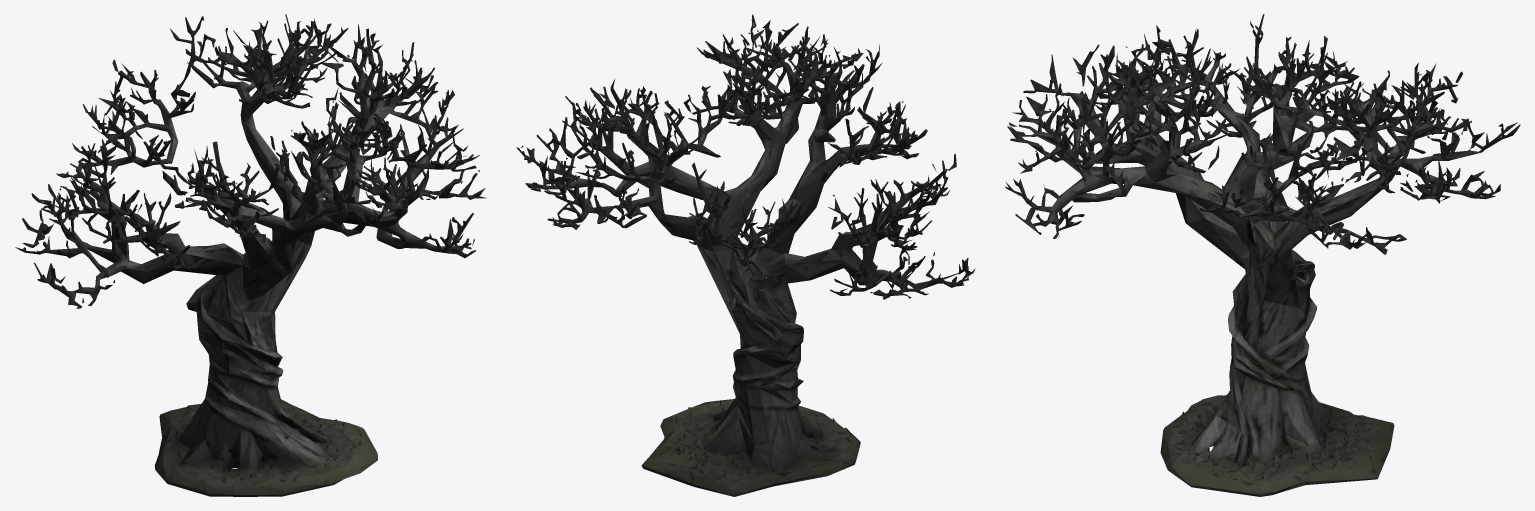
Rendered from bog_dead_tree_01.glb.
The picture shows the model from 3 angles, left to right: view 1: azimuth 30°, elevation 25°; view 2: azimuth 150°, elevation 25°; view 3: azimuth 270°, elevation 25°; orthographic projection. The views are drawn at different scales.
Visible parts, largest first — view 1: geometry_0; view 2: geometry_0; view 3: geometry_0.
Boxes of the visible parts, x1,y1,x2,y2 form: geometry_0: [15, 14, 486, 496]; geometry_0: [516, 14, 975, 496]; geometry_0: [1005, 14, 1520, 496].
Bounding box in the file's own units: 0.9988 × 0.8546 × 0.9936.
1 material, 1 textured.
